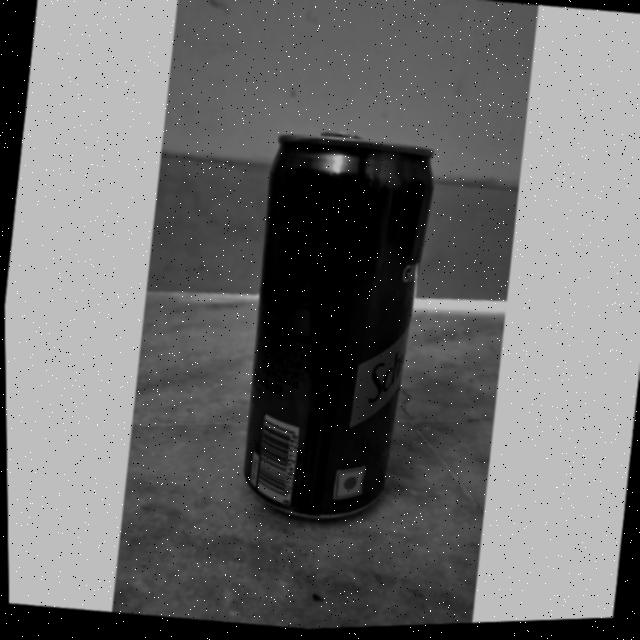Schweppes: (226, 128, 435, 533)
